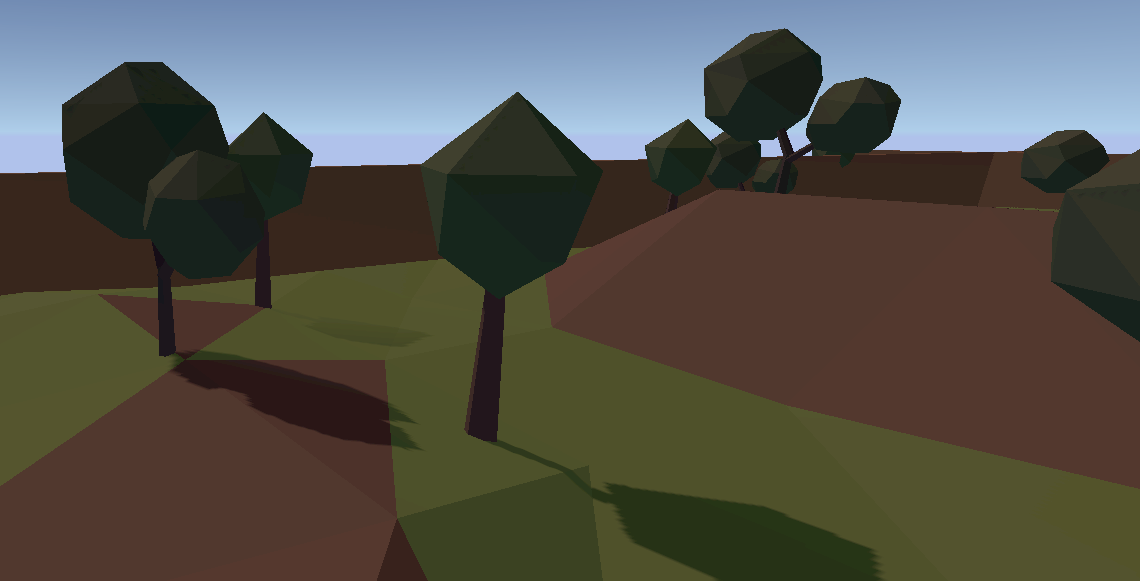tree: (421, 93, 602, 434), (55, 59, 262, 353), (704, 28, 902, 197), (221, 111, 316, 308), (1049, 156, 1140, 342), (642, 114, 717, 213), (1019, 126, 1106, 201), (710, 129, 802, 196)
